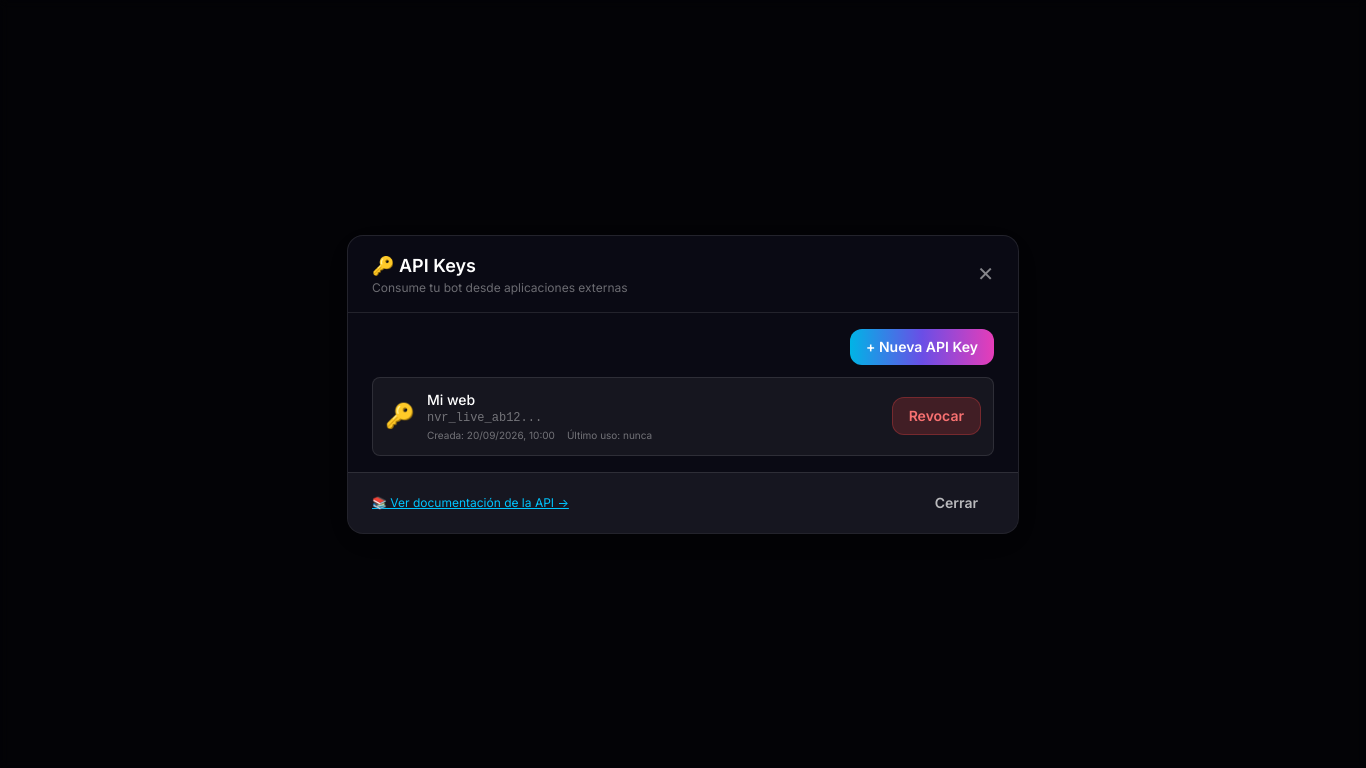
it: ApiKeysPanel › Revocar › click Revocar → abre confirm
This screenshot has width=1366, height=768.
Click the button "Revocar" at (936, 416), box x1=892 y1=397 x2=981 y2=435
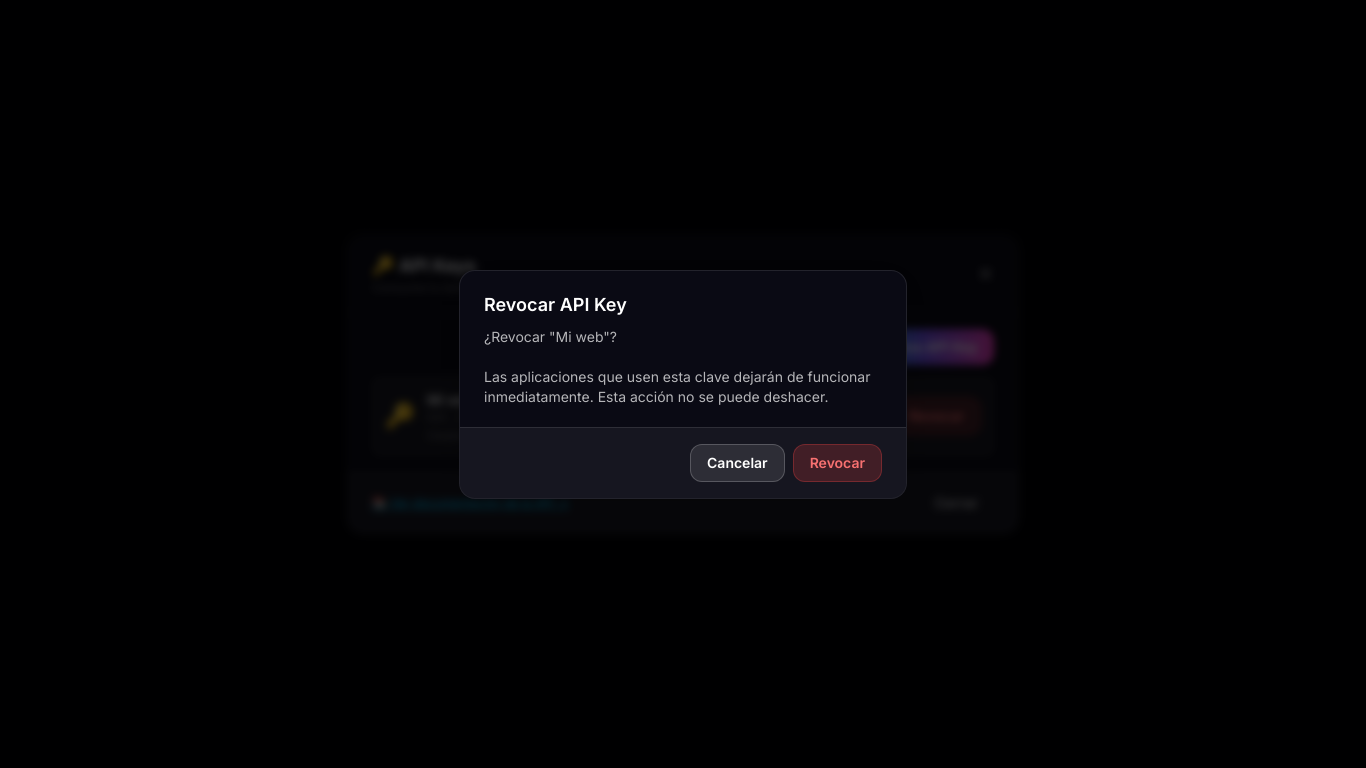
Now the heading "Revocar API Key" is shown, box x1=484 y1=294 x2=627 y2=314
